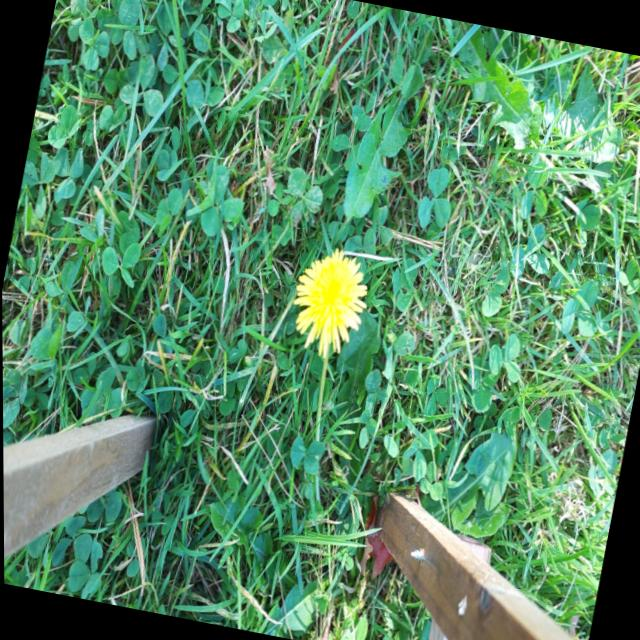base: (305, 496, 335, 534)
